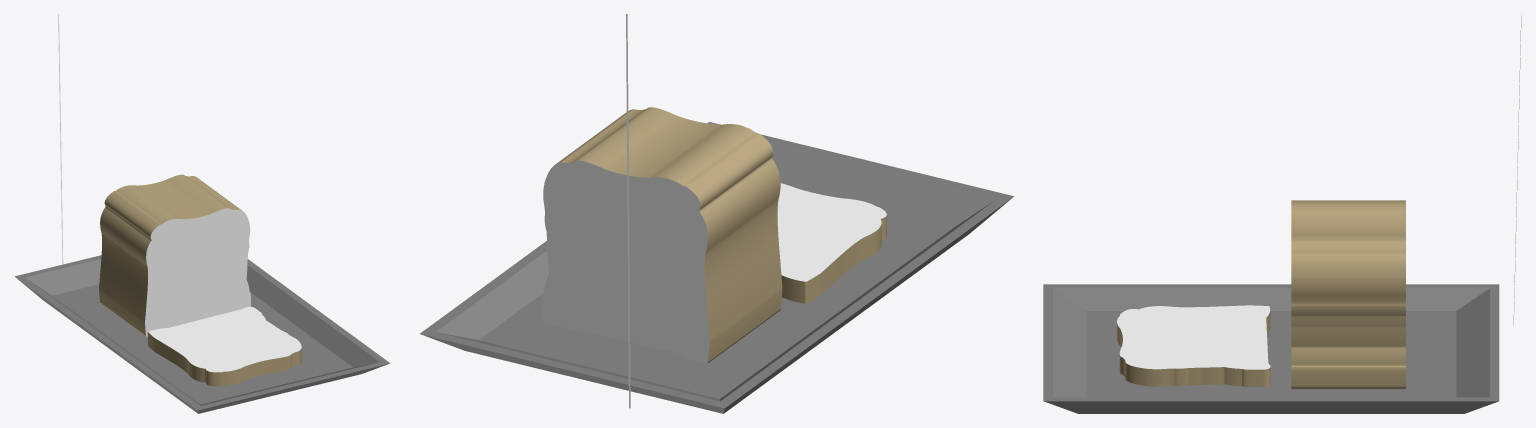
3 views of the same model, side by side, from view 1: azimuth 30°, elevation 25°; view 2: azimuth 150°, elevation 25°; view 3: azimuth 270°, elevation 25° (orthographic). The views are drawn at different scales.
Parts seen in each view (by area): view 1: Group_001, Component#3_001, Component#3_007, Component#3_002, Component#3_004, Component#3_005, Component#3_006, Component#3_003, Плоскость; view 2: Group_001, Component#3_006, Component#3_007, Component#3_002, Component#3_001, Component#3_004, Component#3_003, Component#3_005, Плоскость; view 3: Group_001, Component#3_007, Component#3_001, Component#3_005, Component#3_004, Component#3_003, Component#3_002, Component#3_006.
Boxes of the visible parts, <box> form: Group_001: <box>15,255,390,413</box>; Component#3_001: <box>137,202,250,336</box>; Component#3_007: <box>147,306,301,386</box>; Component#3_002: <box>129,197,233,330</box>; Component#3_004: <box>114,185,218,319</box>; Component#3_005: <box>106,180,210,313</box>; Component#3_006: <box>99,174,202,308</box>; Component#3_003: <box>122,191,225,325</box>; Плоскость: <box>58,14,63,264</box>; Group_001: <box>420,122,1013,413</box>; Component#3_006: <box>542,151,721,363</box>; Component#3_007: <box>777,183,886,303</box>; Component#3_002: <box>605,116,770,327</box>; Component#3_001: <box>618,107,782,318</box>; Component#3_004: <box>581,134,745,345</box>; Component#3_003: <box>593,125,758,336</box>; Component#3_005: <box>569,142,733,354</box>; Плоскость: <box>626,14,630,408</box>; Group_001: <box>1043,284,1499,413</box>; Component#3_007: <box>1117,305,1270,386</box>; Component#3_001: <box>1291,200,1310,389</box>; Component#3_005: <box>1367,200,1386,389</box>; Component#3_004: <box>1348,200,1367,389</box>; Component#3_003: <box>1329,200,1348,389</box>; Component#3_002: <box>1310,200,1329,389</box>; Component#3_006: <box>1387,200,1405,389</box>.
Bounding box in the file's own units: 25.5 × 32.85 × 43.96.
